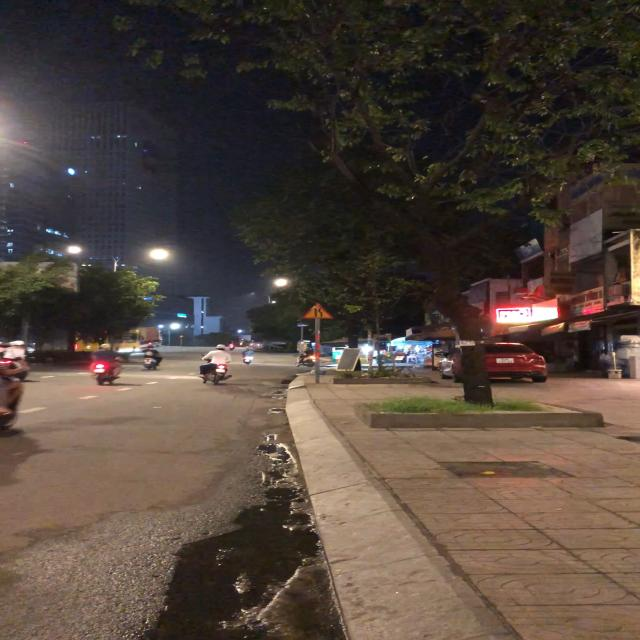Bien bao duong bi thu hep: (300, 301, 336, 321)
